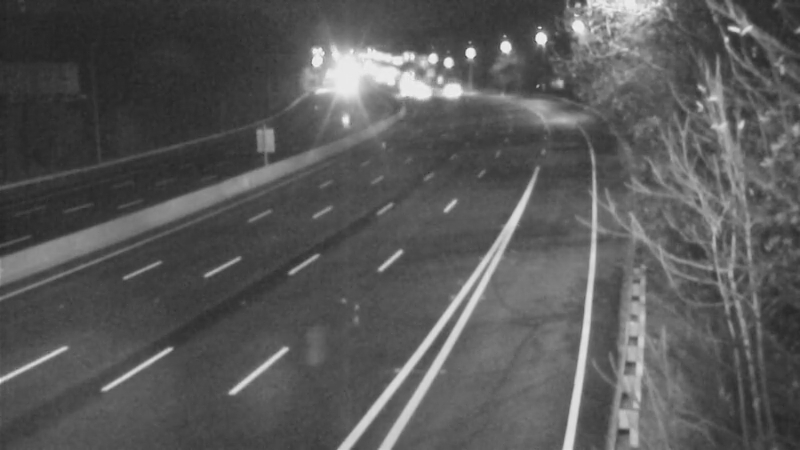vehicle: (426, 64, 476, 114), (374, 68, 424, 118), (401, 67, 451, 117)
